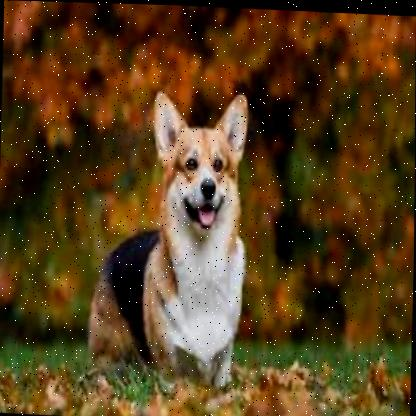dog: (85, 85, 251, 392)
